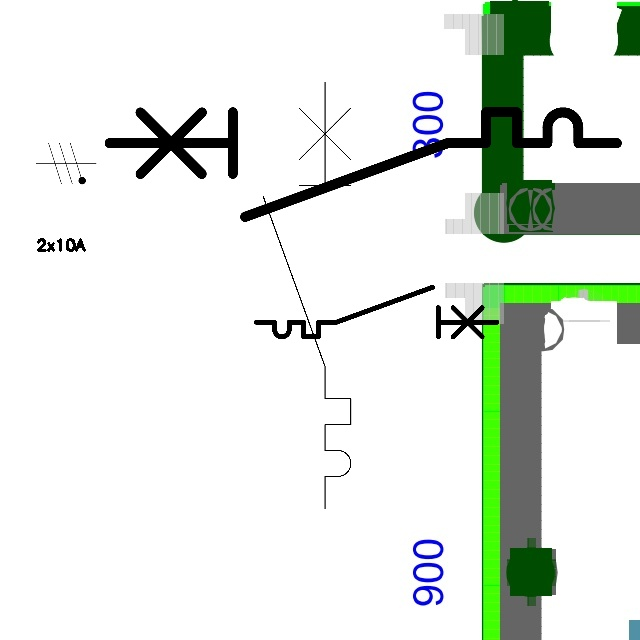interruptor_termomagnetico: (96, 99, 630, 229), (252, 71, 362, 520), (250, 281, 503, 343)
